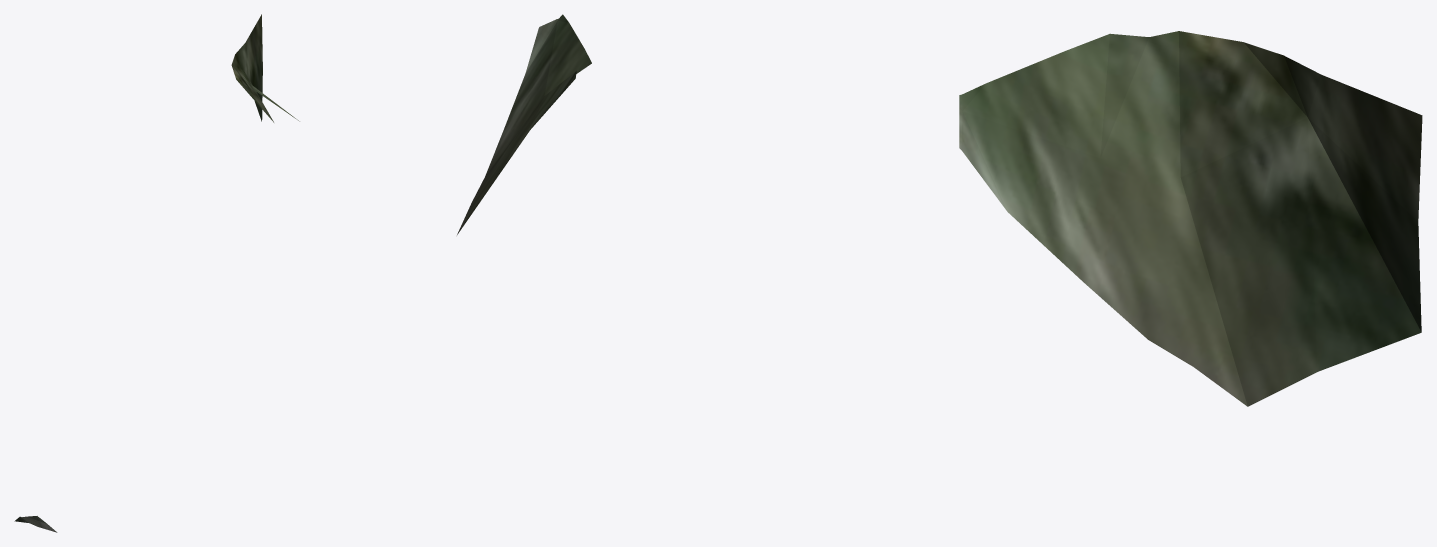
3 renders of one model, left to right at view 1: azimuth 30°, elevation 25°; view 2: azimuth 150°, elevation 25°; view 3: azimuth 270°, elevation 25°, orthographic. The views are drawn at different scales.
Bounding box in the file's own units: 2.95 × 2.95 × 1.74.
Materials: 1 (1 with a texture image).
